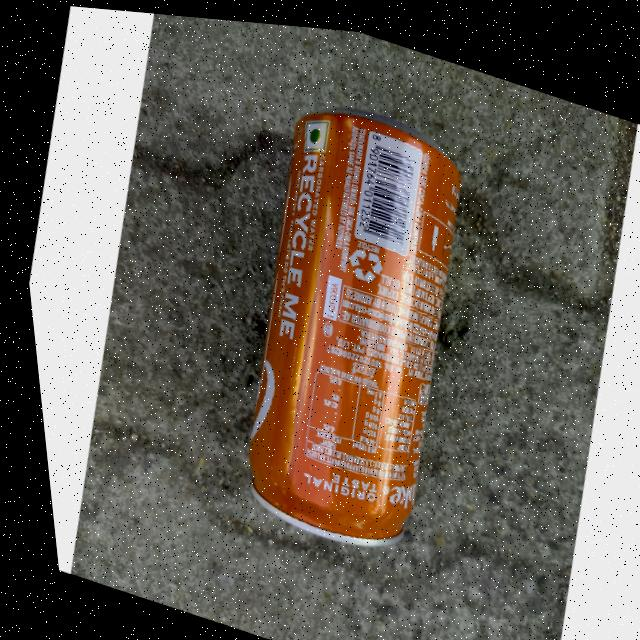Coca Cola: (184, 74, 507, 569)
